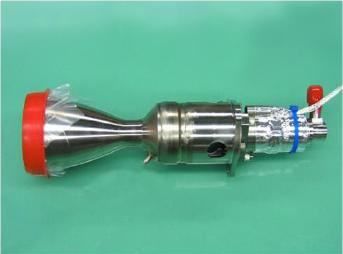thruster: (21, 90, 143, 179)
